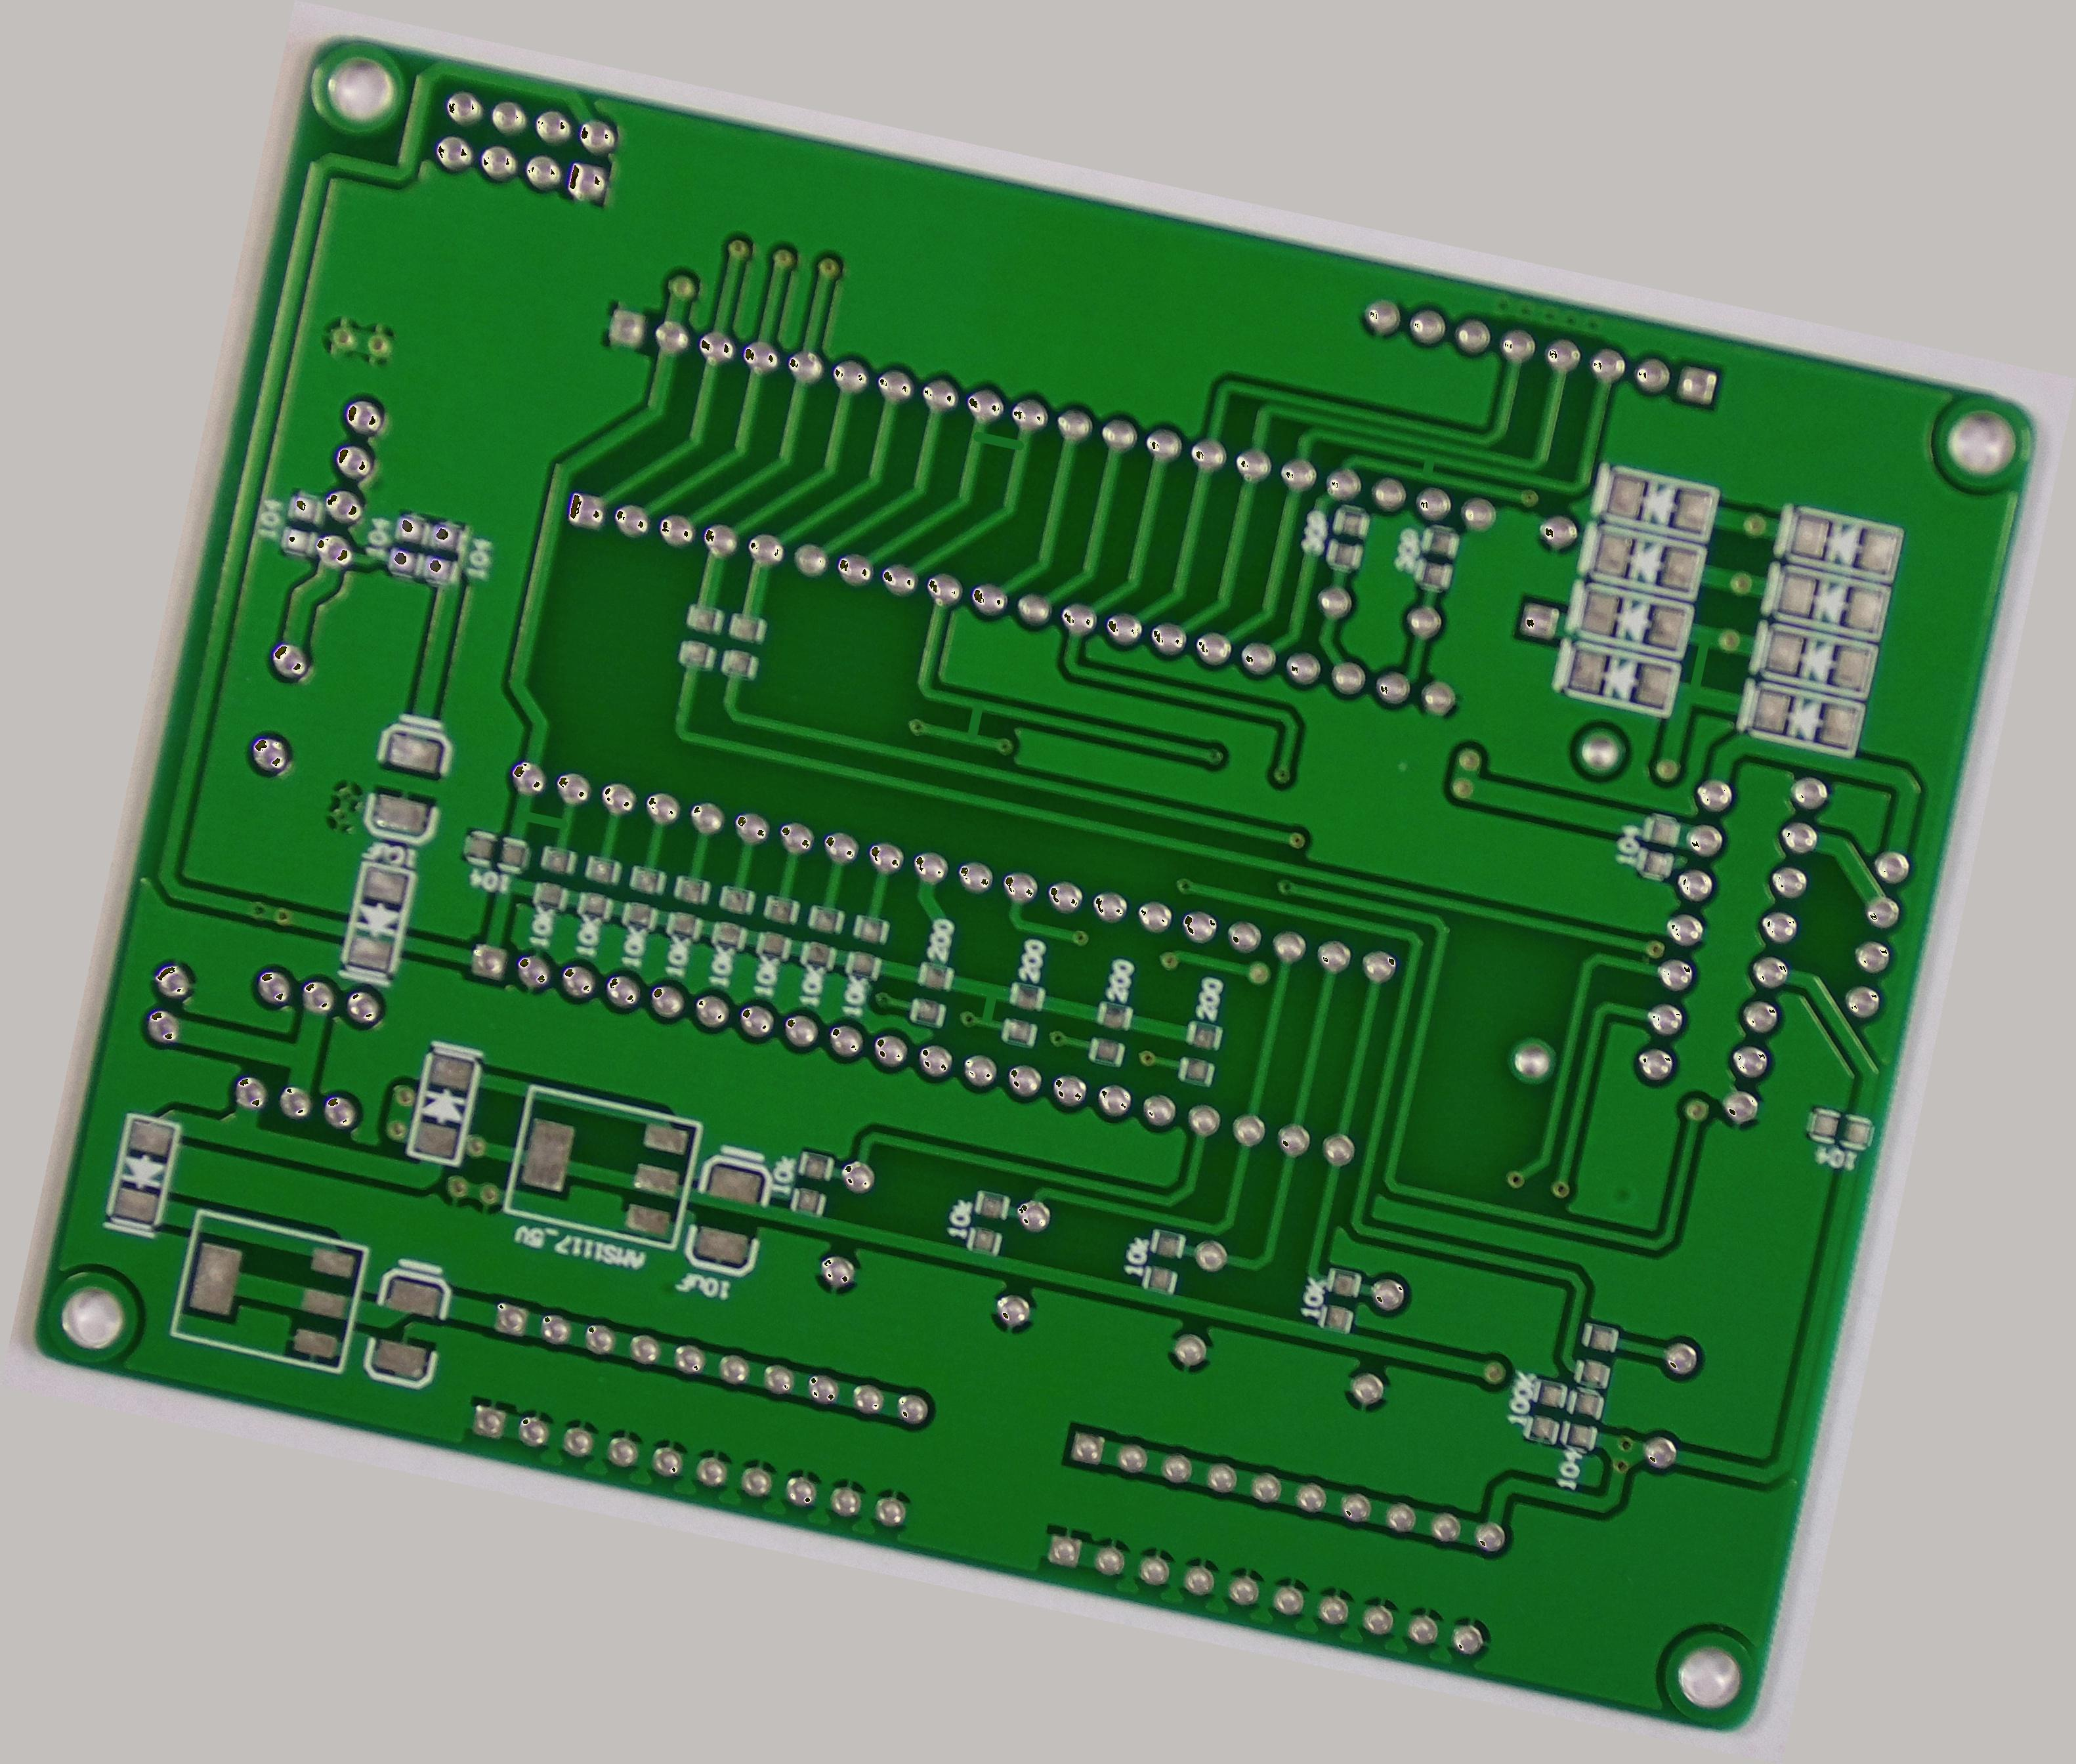short: (961, 415, 1040, 465), (506, 798, 579, 840), (950, 689, 999, 751), (961, 978, 1013, 1032), (1407, 450, 1442, 479)
